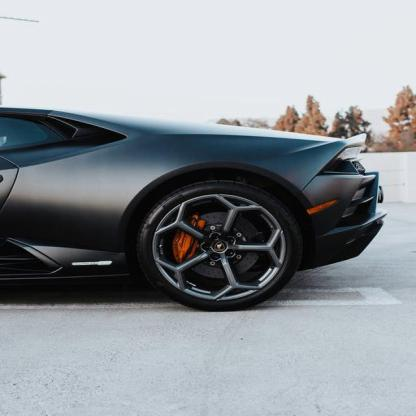Tire: (135, 178, 300, 312)
